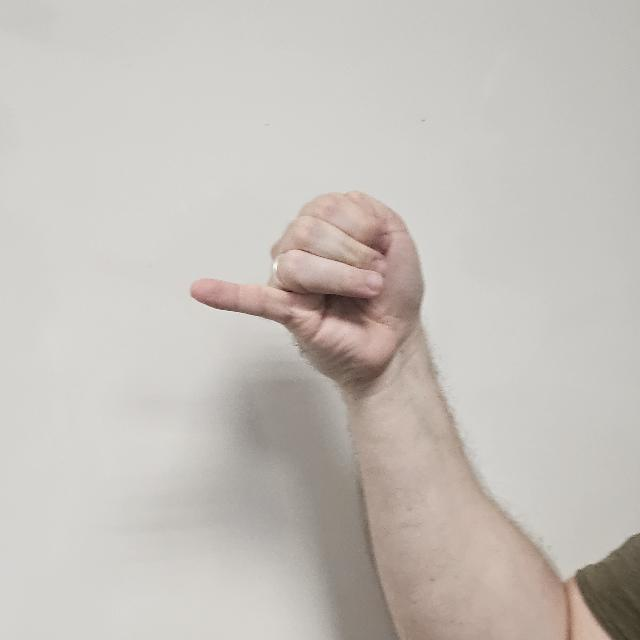Esquerda: (181, 158, 481, 426)
